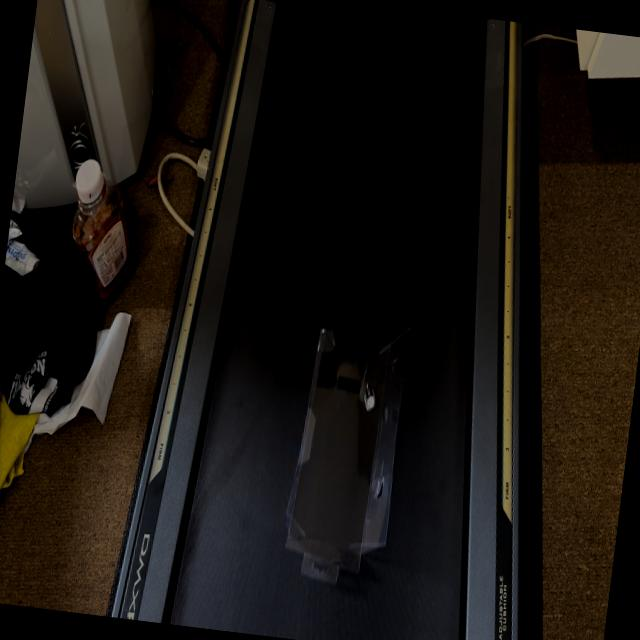Trash: (274, 296, 419, 596)
